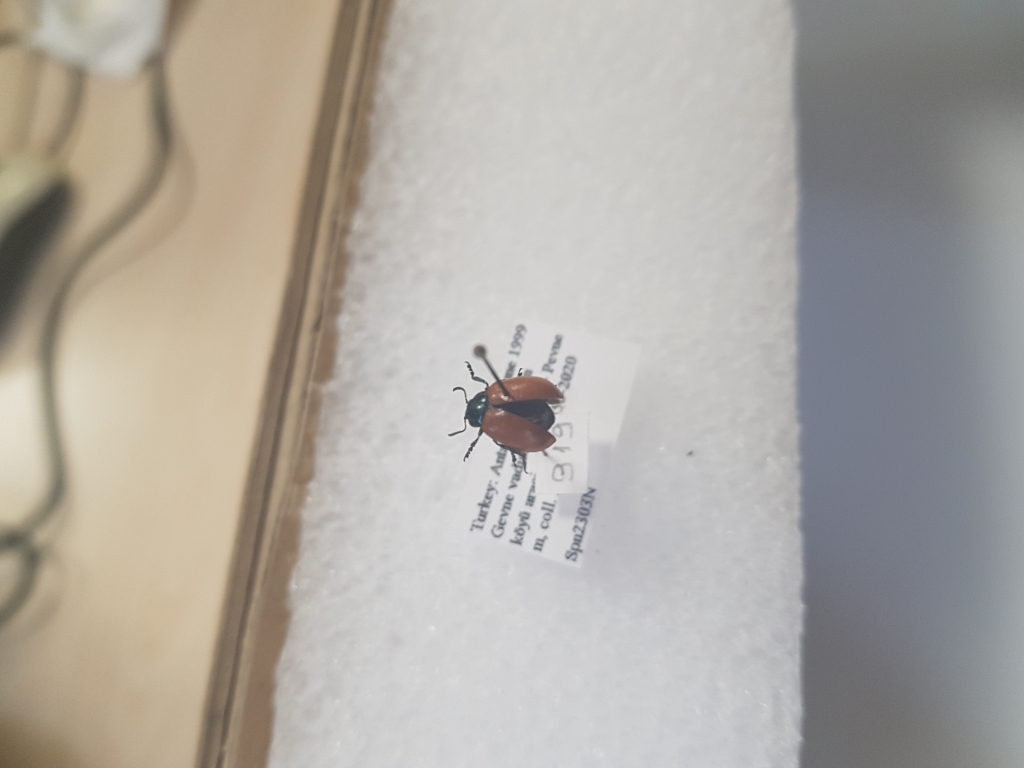Chrysomela_populi: (447, 357, 566, 472)
